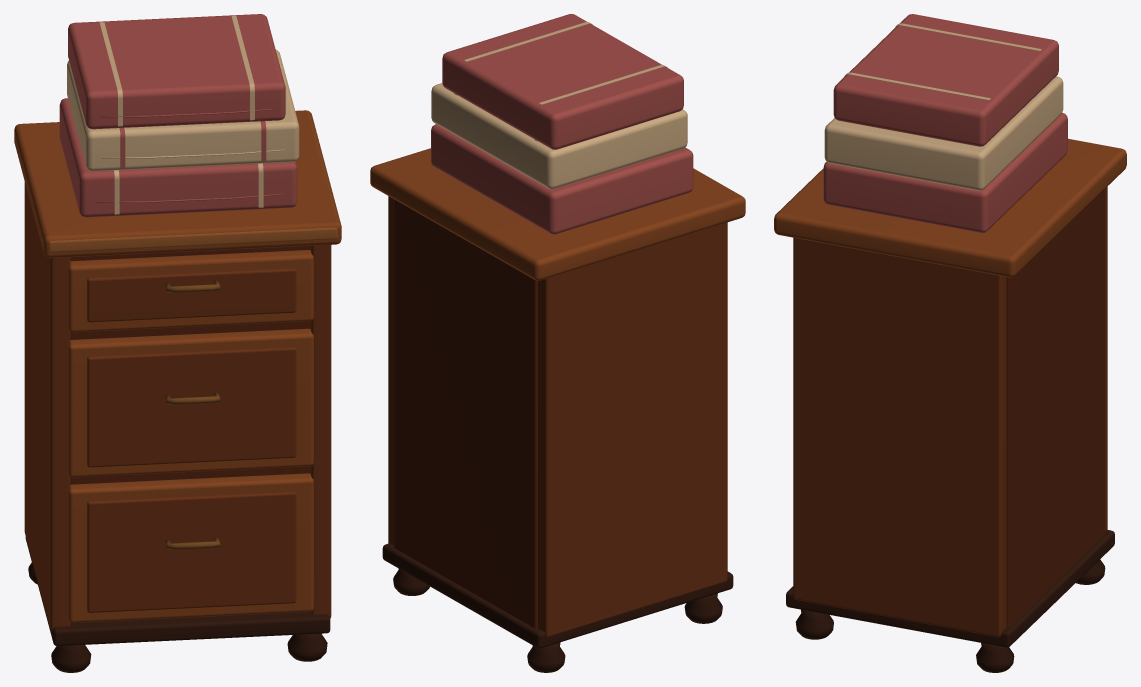
The model's file is SM_BunkerLinenCabinet.fbx.
3 views of the same model, side by side, from view 1: azimuth 30°, elevation 25°; view 2: azimuth 150°, elevation 25°; view 3: azimuth 270°, elevation 25° (orthographic). The views are drawn at different scales.
Parts seen in each view (by area): view 1: SM_BunkerLinenCabinet; view 2: SM_BunkerLinenCabinet; view 3: SM_BunkerLinenCabinet.
Part boxes in pixels (x1,y1,x2,y2): SM_BunkerLinenCabinet: [14, 14, 341, 672]; SM_BunkerLinenCabinet: [370, 14, 745, 672]; SM_BunkerLinenCabinet: [774, 14, 1126, 672].
Bounding box in the file's own units: 83.42 × 80.68 × 137.
